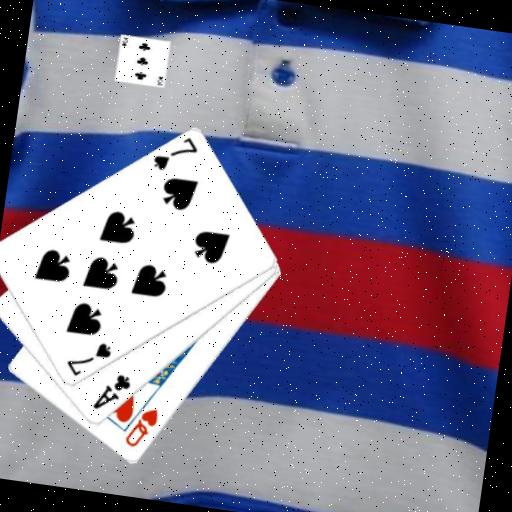7S: (62, 335, 115, 383), (149, 130, 201, 177)
AC: (88, 367, 134, 416)
QH: (121, 402, 161, 452)
